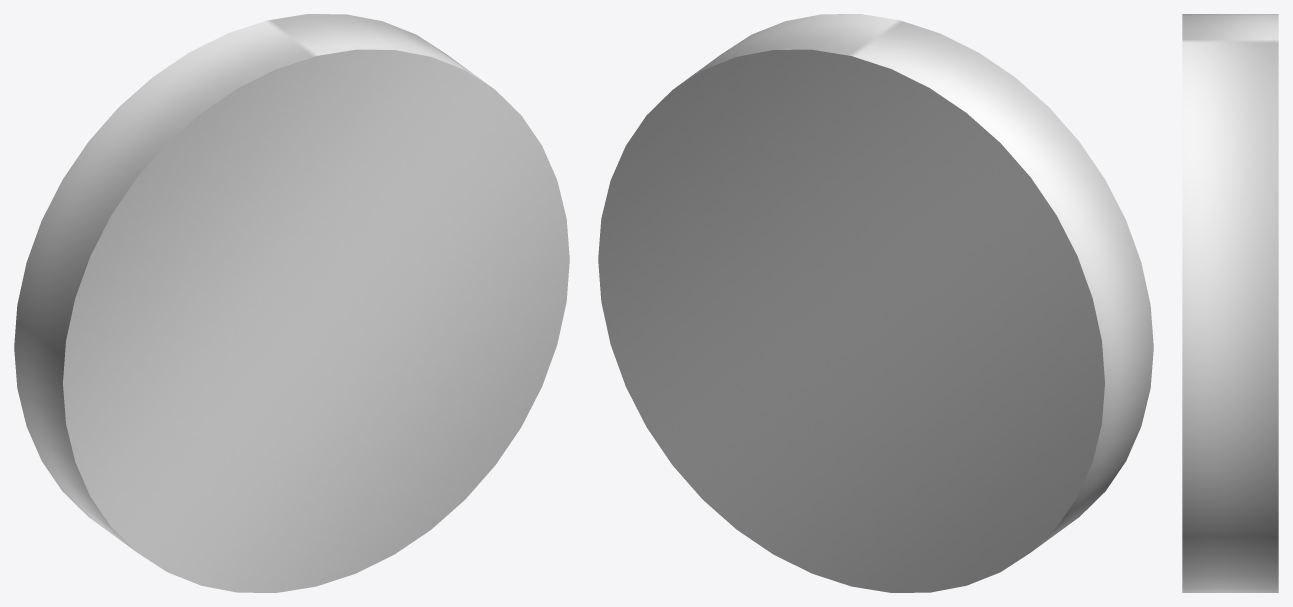
File: Star.FBX
The picture shows the model from 3 angles, left to right: view 1: azimuth 30°, elevation 25°; view 2: azimuth 150°, elevation 25°; view 3: azimuth 270°, elevation 25°; orthographic projection.
Visible parts, largest first — view 1: Cylinder002; view 2: Cylinder002; view 3: Cylinder002.
Boxes of the visible parts, <box> form: Cylinder002: <box>14,14,569,592</box>; Cylinder002: <box>598,14,1153,592</box>; Cylinder002: <box>1182,14,1278,592</box>.
Size of the model in its own units: 175 by 175 by 29.18.
2 materials, 2 textured.
